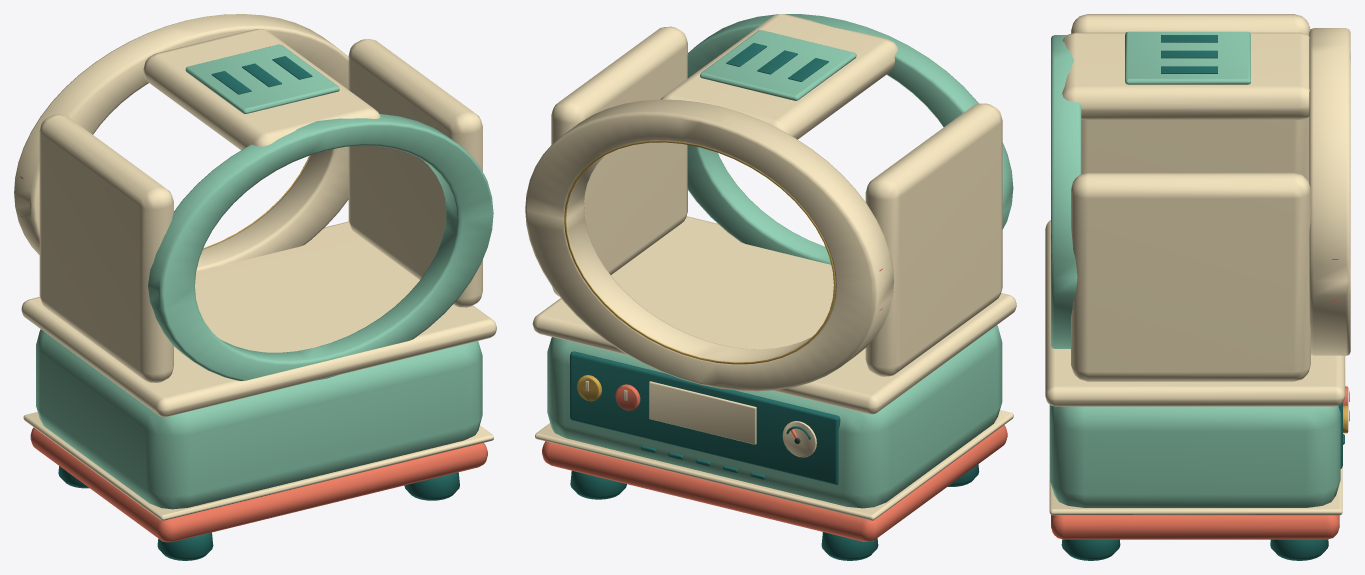
The model's file is IncubatorFrame.fbx.
3 views of the same model, side by side, from view 1: azimuth 30°, elevation 25°; view 2: azimuth 150°, elevation 25°; view 3: azimuth 270°, elevation 25° (orthographic). The views are drawn at different scales.
Visible parts, largest first — view 1: IncubatorFrame_Visual; view 2: IncubatorFrame_Visual; view 3: IncubatorFrame_Visual.
Part boxes in pixels (bbox=[...]): IncubatorFrame_Visual: bbox=[14, 14, 496, 560]; IncubatorFrame_Visual: bbox=[525, 14, 1016, 560]; IncubatorFrame_Visual: bbox=[1045, 14, 1350, 560].
Bounding box in the file's own units: 1.94 × 2.2 × 1.4.
